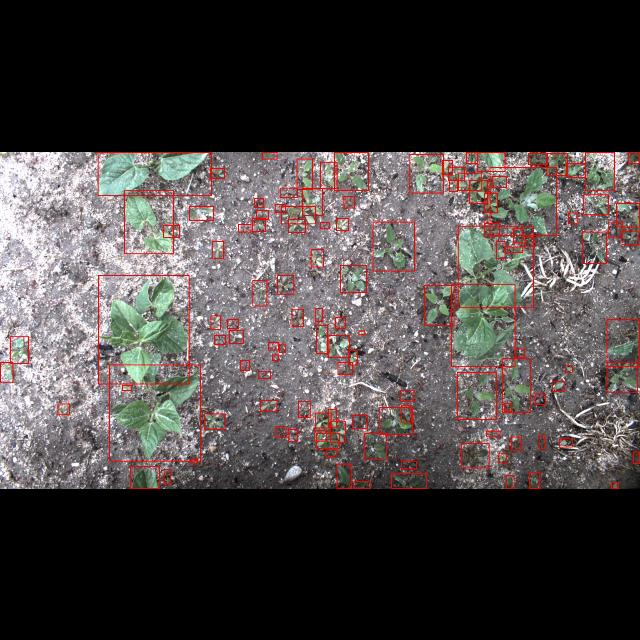crop: (99, 274, 190, 384), (110, 365, 200, 461), (458, 225, 534, 307), (451, 284, 515, 366), (98, 151, 212, 195), (124, 190, 174, 252), (130, 466, 160, 488), (477, 152, 505, 170)
weed: (489, 166, 556, 234), (373, 222, 415, 270), (458, 372, 497, 418), (606, 318, 640, 366), (502, 358, 530, 412), (334, 151, 368, 189), (410, 154, 444, 192), (424, 285, 454, 325), (586, 152, 614, 190), (606, 362, 638, 392), (380, 408, 412, 434), (582, 231, 606, 263), (340, 264, 366, 292), (461, 442, 489, 468), (281, 205, 315, 223), (616, 202, 640, 226), (364, 433, 386, 459), (302, 187, 322, 215), (10, 336, 28, 364), (297, 158, 313, 188), (584, 194, 608, 214), (392, 474, 426, 488), (320, 161, 338, 187), (329, 335, 349, 357), (468, 180, 488, 202), (547, 153, 567, 175), (458, 172, 482, 190), (253, 280, 267, 306), (188, 205, 214, 219), (337, 464, 351, 488), (316, 325, 328, 353), (330, 421, 346, 442), (316, 434, 339, 448), (278, 274, 294, 294), (204, 414, 226, 428), (484, 192, 498, 212), (566, 162, 586, 176), (315, 412, 331, 428), (288, 218, 306, 232), (1, 362, 13, 382), (528, 152, 548, 164), (622, 230, 638, 244), (311, 248, 323, 266), (212, 240, 224, 258), (292, 308, 304, 326), (449, 167, 465, 180), (484, 222, 500, 235), (252, 217, 266, 231), (608, 222, 622, 236), (163, 224, 179, 236), (298, 401, 310, 417), (352, 416, 368, 428), (260, 400, 278, 410), (280, 187, 298, 197), (229, 330, 243, 342), (338, 362, 352, 374), (530, 472, 540, 488), (401, 405, 411, 421), (492, 176, 506, 187), (337, 218, 349, 230), (496, 240, 504, 258), (329, 409, 337, 427), (348, 350, 358, 364), (211, 315, 221, 329), (210, 167, 224, 177), (400, 390, 414, 400), (442, 160, 452, 174), (513, 228, 523, 242), (511, 436, 521, 449), (58, 404, 70, 414), (335, 316, 345, 328), (214, 334, 226, 344), (288, 429, 298, 441), (628, 152, 640, 162), (466, 152, 478, 162), (552, 381, 564, 391), (314, 430, 326, 440), (238, 223, 252, 231), (402, 461, 416, 469), (344, 196, 354, 207), (276, 427, 286, 438), (524, 237, 536, 246), (228, 318, 238, 328), (240, 360, 250, 370), (568, 212, 578, 222), (535, 394, 545, 404), (354, 482, 370, 488), (506, 476, 514, 488), (560, 439, 572, 447), (256, 210, 268, 218), (274, 203, 286, 211), (315, 308, 323, 320), (258, 370, 270, 378), (449, 179, 457, 191), (164, 470, 170, 484), (262, 152, 276, 158), (508, 246, 522, 252), (486, 430, 500, 436), (254, 198, 264, 206), (268, 342, 278, 350), (515, 348, 525, 356), (326, 449, 336, 457), (498, 453, 506, 462), (633, 451, 639, 463), (539, 436, 545, 448), (504, 403, 512, 411), (122, 384, 132, 390), (320, 222, 330, 228), (279, 343, 285, 352), (566, 364, 572, 372), (612, 482, 618, 488), (191, 458, 197, 464), (273, 354, 279, 360), (359, 330, 365, 334)
